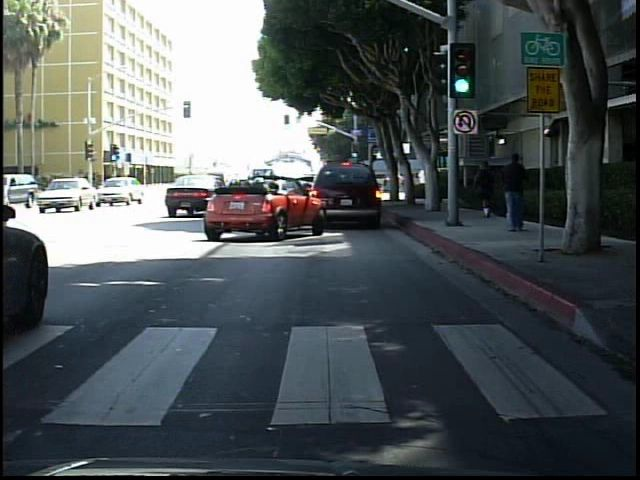person: (499, 147, 532, 237), (475, 157, 499, 223)
